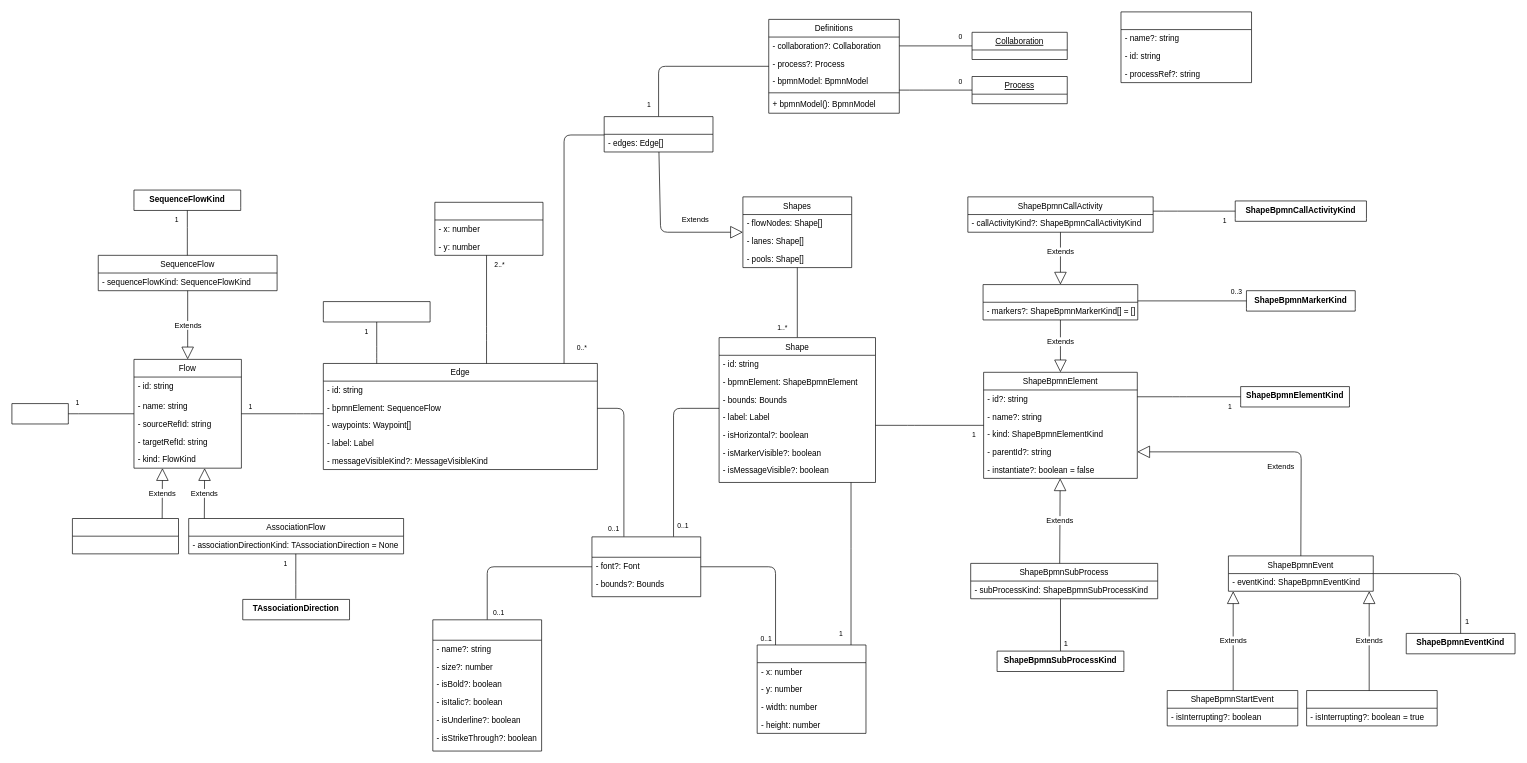
Image size: 1527x763. Some labels were removed from this diagram. Here are the shapes that lost their labels. From the top down, the box of each, then its label:
(1120, 11, 1252, 83): Participant
(604, 116, 713, 152): BpmnModel
(434, 202, 543, 255): Waypoint
(323, 301, 430, 322): MessageVisibleKind
(982, 284, 1138, 320): ShapeBpmnActivity
(11, 403, 68, 424): FlowKind
(72, 518, 178, 554): MessageFlow
(591, 536, 701, 597): Label
(432, 619, 542, 751): Font
(756, 644, 866, 733): Bounds
(1306, 690, 1437, 726): ShapeBpmnBoundaryEvent
